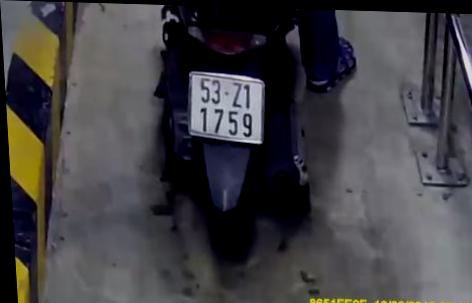License_Plate: (180, 66, 275, 152)
